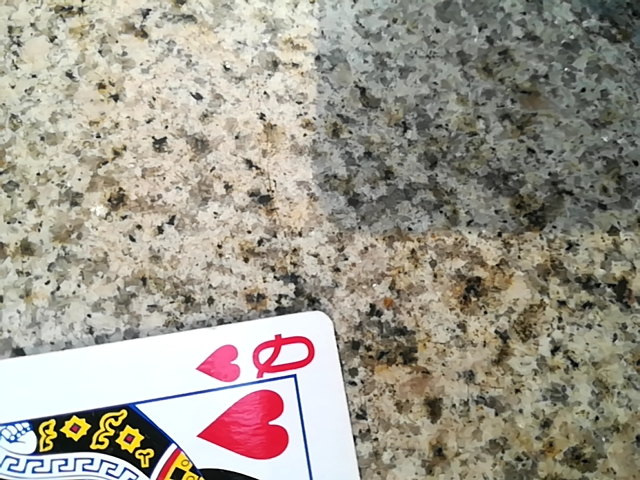hx q: (3, 312, 378, 480)
